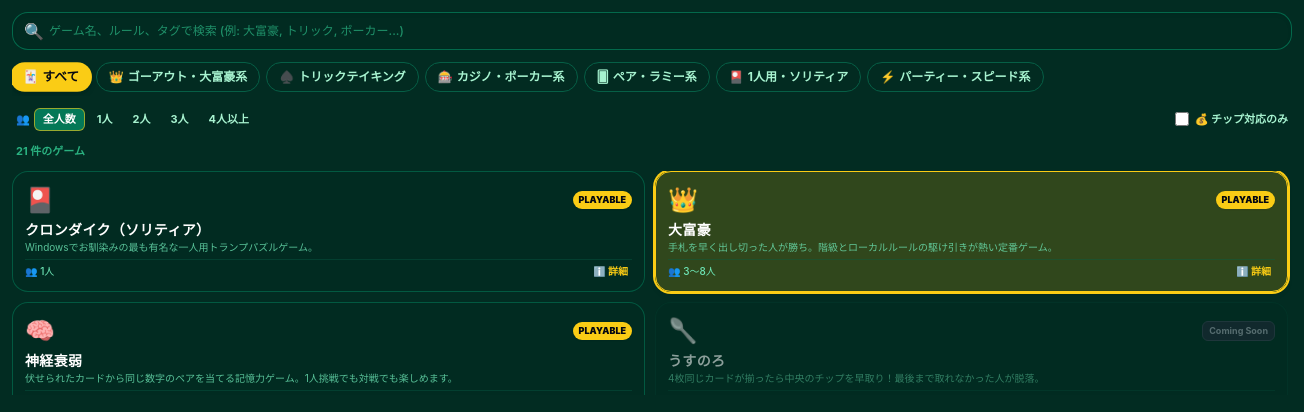
Test: GameSelector Component › 検索バーに入力するとインクリメンタル検索でゲームが絞り込まれること
Step 1. Type "ブラックジャック" into the search field with placeholder "ゲーム名、ルール、タグで検索 (例: 大富豪, トリック, ポーカー...)" → (652, 31), box [12,12,1292,50]
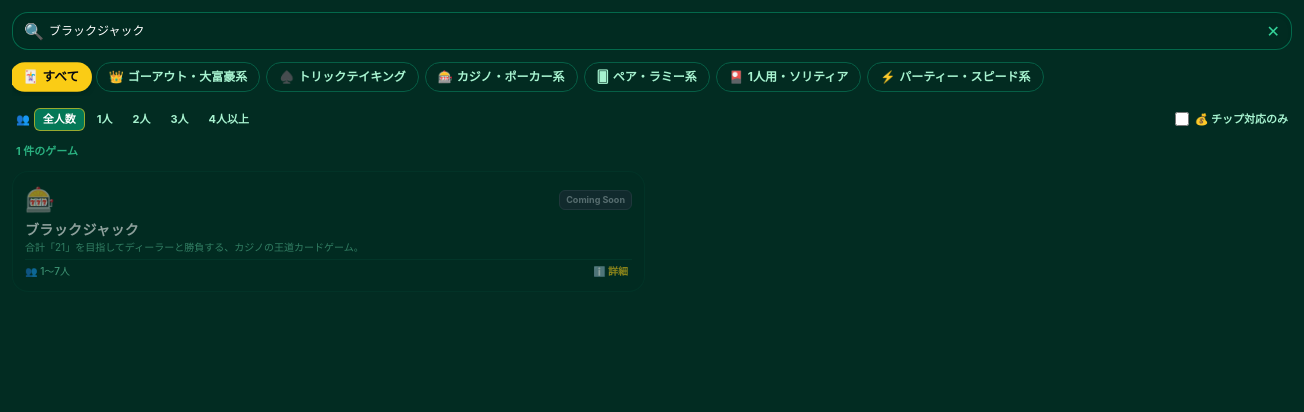
Result: the text "ブラックジャック" is shown at [25,221,139,238]
